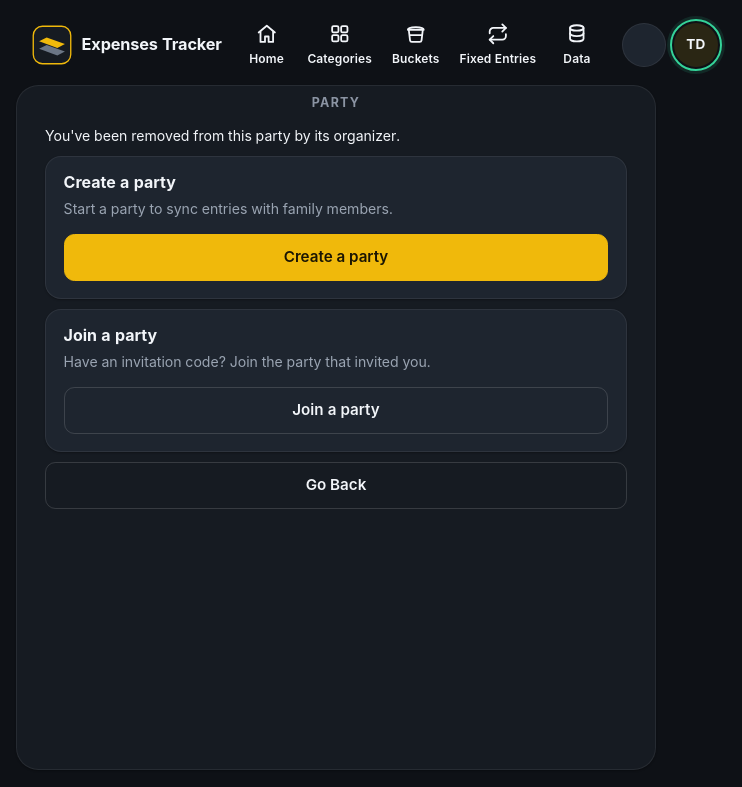
blocking a member › a blocked user can start a new party from the removed-from-party view
Click the button "Create a party" at [336, 257], box x1=64 y1=234 x2=608 y2=281
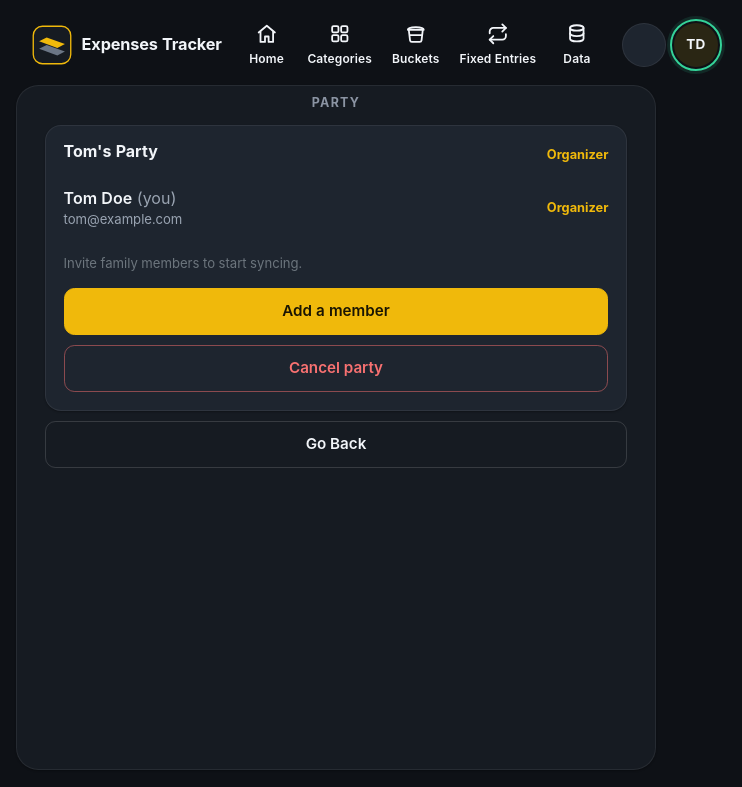
Now the heading "Tom's Party" is shown, box x1=64 y1=142 x2=158 y2=161
Now the text "You've been removed from this party by its organizer." is gone
Now the text "Organizer" in the row of "Tom's Party" is shown, box x1=547 y1=147 x2=608 y2=162
